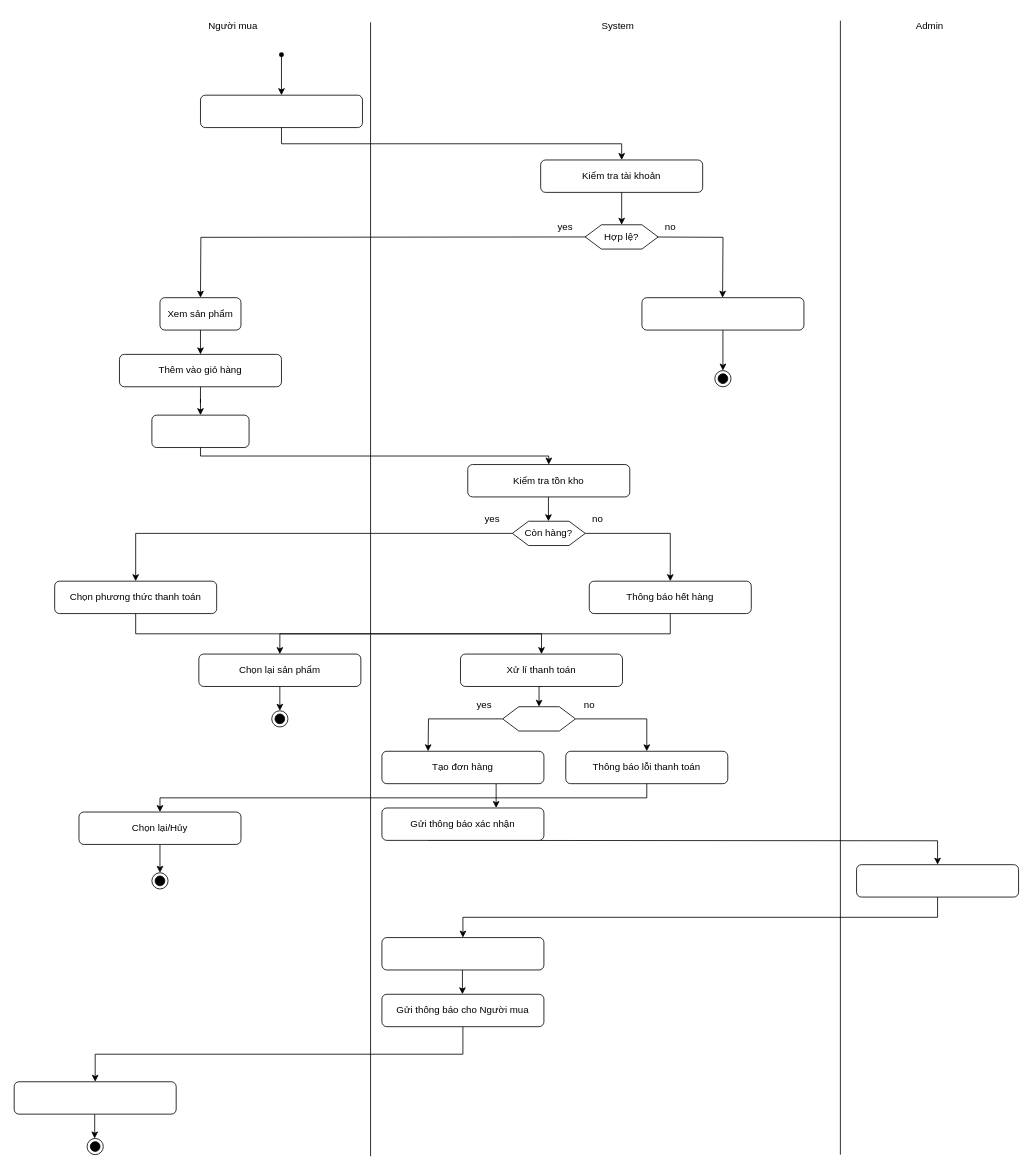
Image size: 1033x1171. Some labels were removed from this diagram. The shapes that lost their labels are listed below. From the top down, each one's centre as x and y in pixels, then its label:
At (x=281, y=111): "Đăng nhập/Đăng ký".
At (x=722, y=313): "Thông báo lỗi đăng nhập".
At (x=200, y=431): "Đặt hàng".
At (x=539, y=718): "Thanh toán OK?".
At (x=937, y=880): "Xem và xử lí đơn hàng".
At (x=462, y=953): "Cập nhật trạng thái đơn hàng".
At (x=94, y=1097): "Theo dõi trạng thái đơn hàng".
